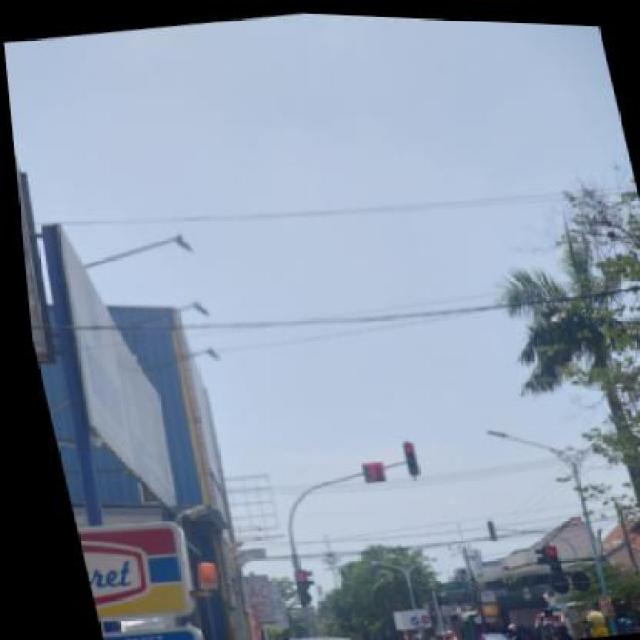red_light: (281, 564, 302, 604), (393, 435, 412, 474), (533, 542, 553, 578)
